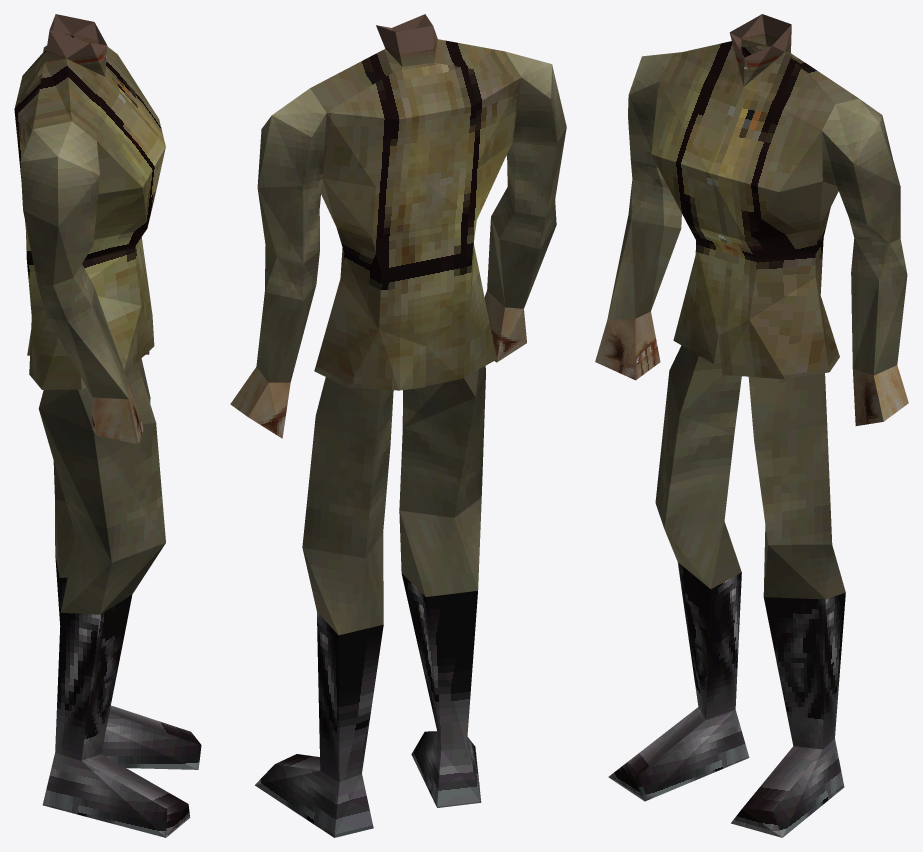
Rendered from primary_12.glb.
3 renders of one model, left to right at view 1: azimuth 30°, elevation 25°; view 2: azimuth 150°, elevation 25°; view 3: azimuth 270°, elevation 25°, orthographic. The views are drawn at different scales.
Visible parts, largest first — view 1: Object; view 2: Object; view 3: Object.
Part boxes in pixels (x1,y1,x2,y2): Object: [14, 14, 201, 837]; Object: [230, 14, 566, 837]; Object: [595, 14, 908, 837].
Size of the model in its own units: 0.5862 by 1.83 by 0.6938.
Materials: 79 (79 with a texture image).
